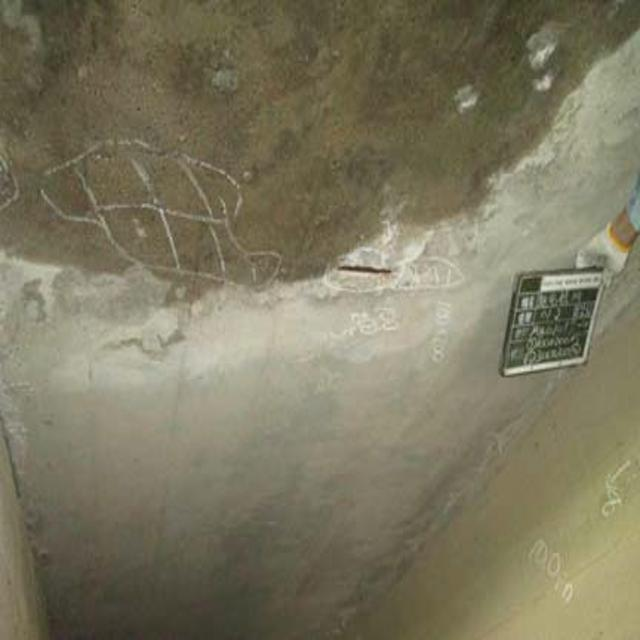spalling: (323, 209, 477, 307)
